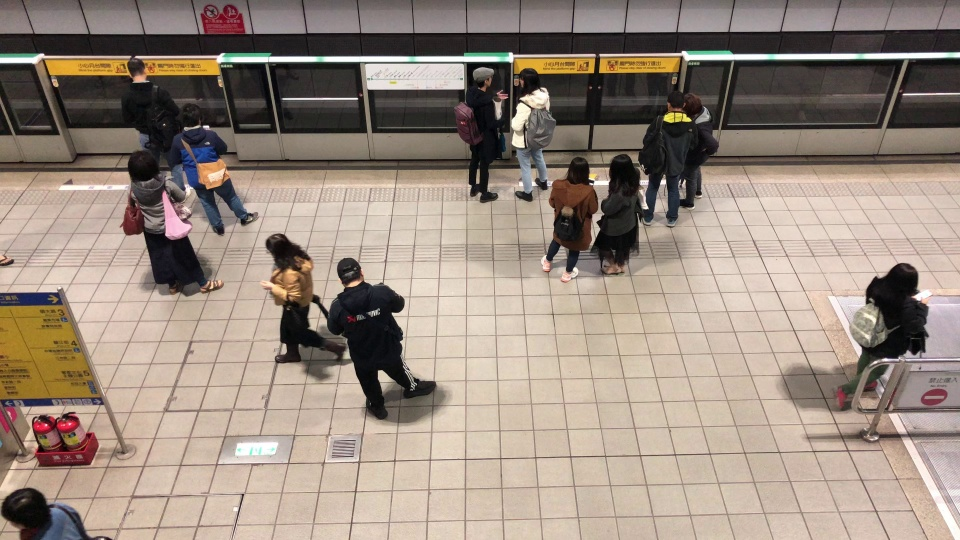person_head: (2, 487, 57, 535), (264, 232, 311, 270), (880, 263, 920, 299), (608, 153, 641, 196), (333, 257, 367, 291), (127, 151, 163, 182), (557, 157, 589, 187), (518, 68, 545, 99), (180, 102, 201, 129), (126, 57, 146, 82), (473, 66, 494, 89), (665, 90, 685, 112), (684, 93, 702, 115)
person_vbox: (327, 257, 436, 418), (126, 151, 223, 297), (835, 263, 932, 409), (166, 103, 260, 235), (260, 232, 345, 363), (122, 57, 190, 204), (641, 90, 697, 228), (541, 157, 598, 285), (590, 154, 642, 274), (466, 66, 508, 204), (510, 68, 553, 202), (677, 91, 718, 210), (0, 484, 85, 538)
